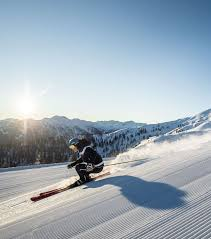skis: (29, 170, 112, 201)
